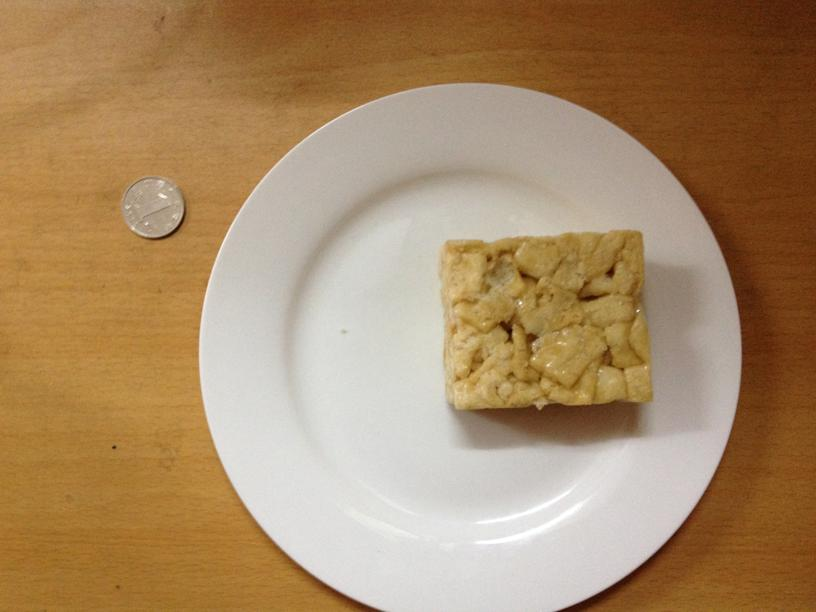coin: (121, 178, 185, 238)
sachima: (435, 229, 654, 412)
